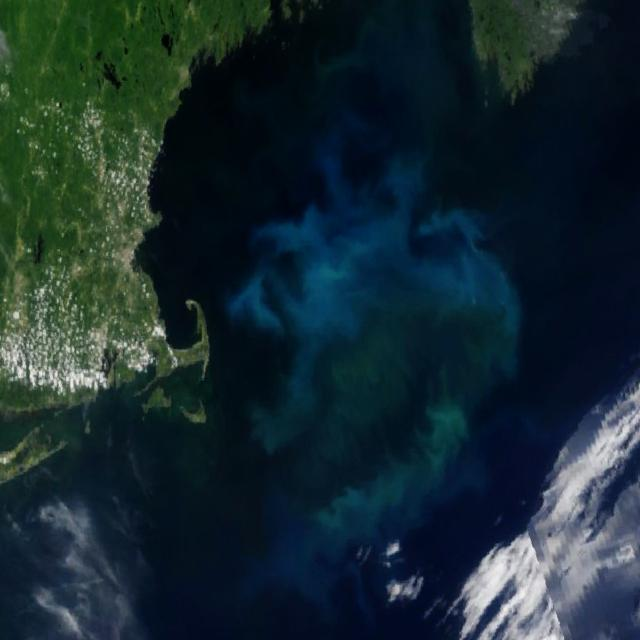oil spill: (227, 111, 518, 526)
